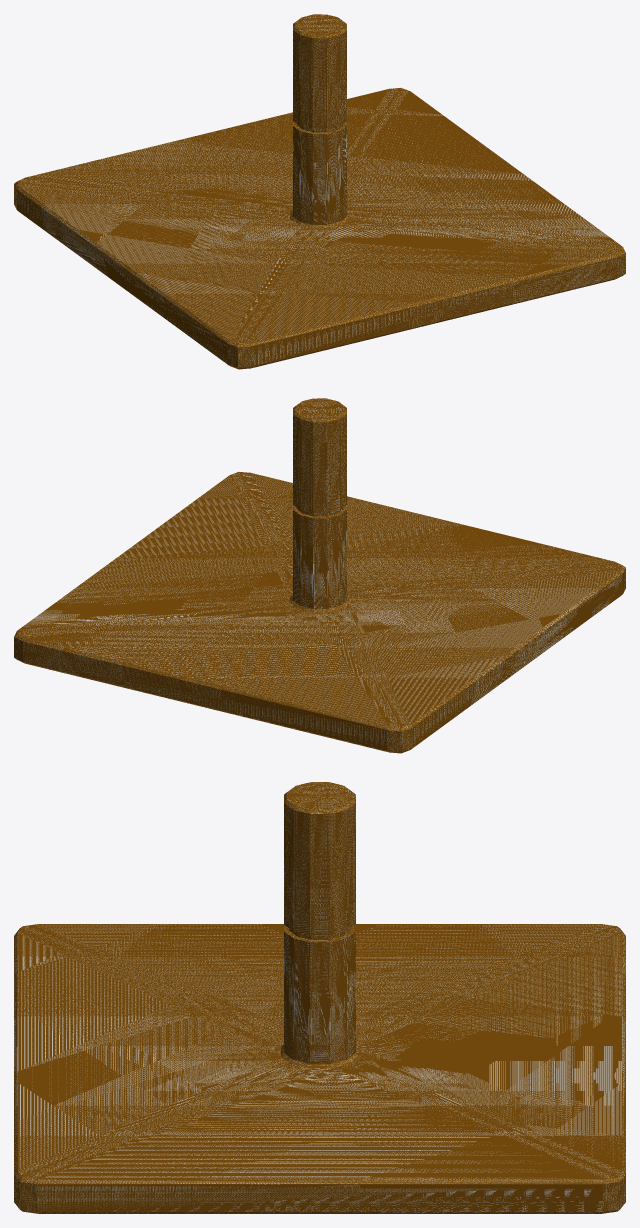
Rendered from original-2.obj.
3 renders of one model, top to bottom at view 1: azimuth 30°, elevation 25°; view 2: azimuth 150°, elevation 25°; view 3: azimuth 270°, elevation 25°, orthographic. The views are drawn at different scales.
Parts seen in each view (by area): view 1: Box02-FACE1/Box02-FACE/mesh2/mesh2-geometry#mesh2-geometry; view 2: Box02-FACE1/Box02-FACE/mesh2/mesh2-geometry#mesh2-geometry; view 3: Box02-FACE1/Box02-FACE/mesh2/mesh2-geometry#mesh2-geometry.
Boxes of the visible parts, x1,y1,x2,y2 form: Box02-FACE1/Box02-FACE/mesh2/mesh2-geometry#mesh2-geometry: [14, 14, 625, 369]; Box02-FACE1/Box02-FACE/mesh2/mesh2-geometry#mesh2-geometry: [14, 398, 625, 753]; Box02-FACE1/Box02-FACE/mesh2/mesh2-geometry#mesh2-geometry: [14, 782, 625, 1213].
Size of the model in its own units: 0.3429 by 0.1793 by 0.3429.
